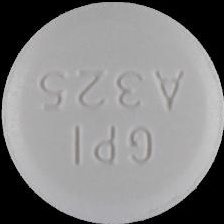0615-4554: (0, 0, 224, 224)
